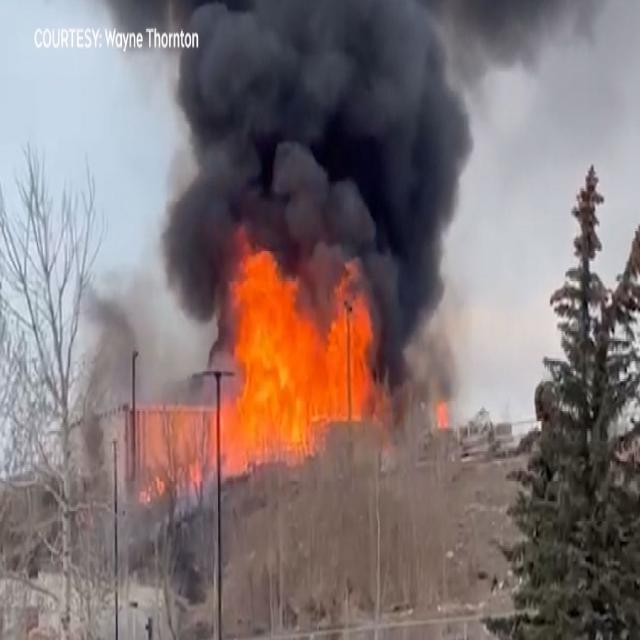Fire: (214, 249, 374, 449), (431, 396, 451, 434)
Smoke: (150, 1, 471, 264)
